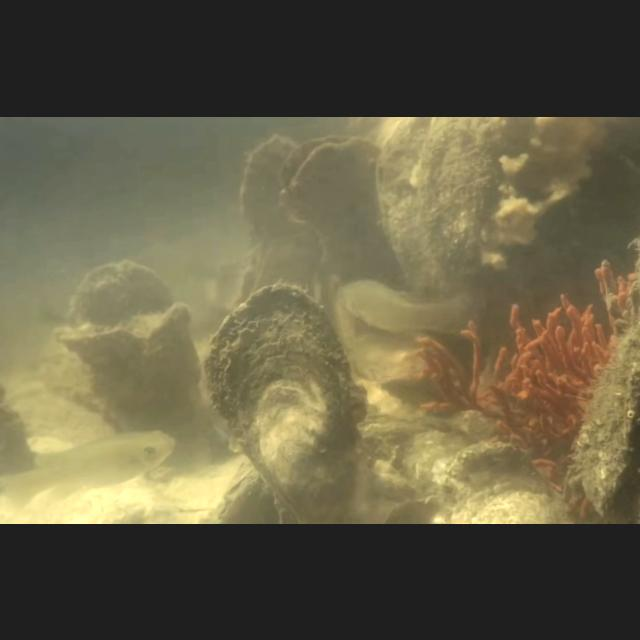Oyster-Closed: (204, 282, 362, 524), (51, 303, 201, 432), (440, 438, 572, 524), (64, 261, 176, 333), (240, 135, 298, 261)
Oyster-Open: (276, 134, 384, 268)
